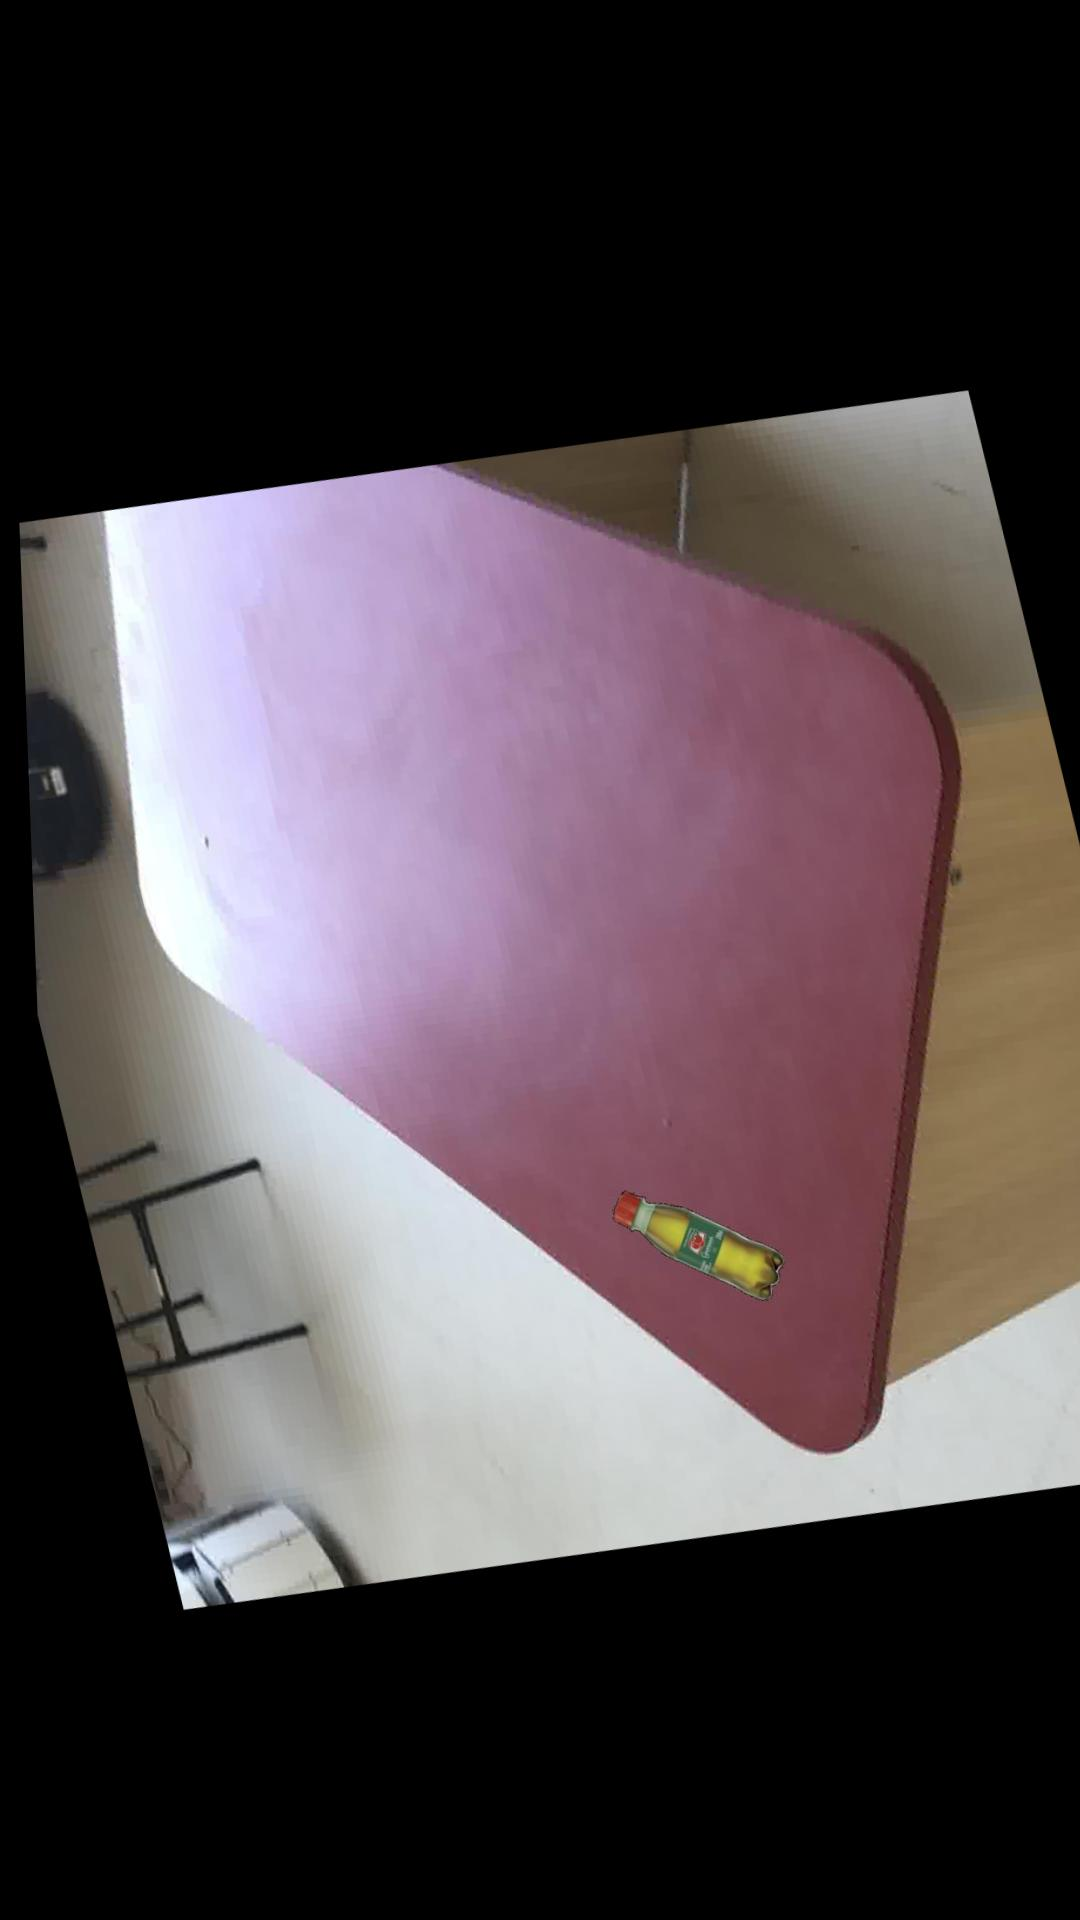guarana: (600, 1180, 773, 1288)
